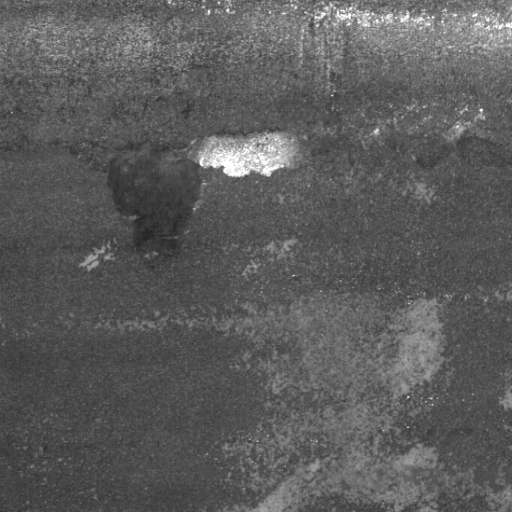qiaopi: (108, 126, 305, 270)
